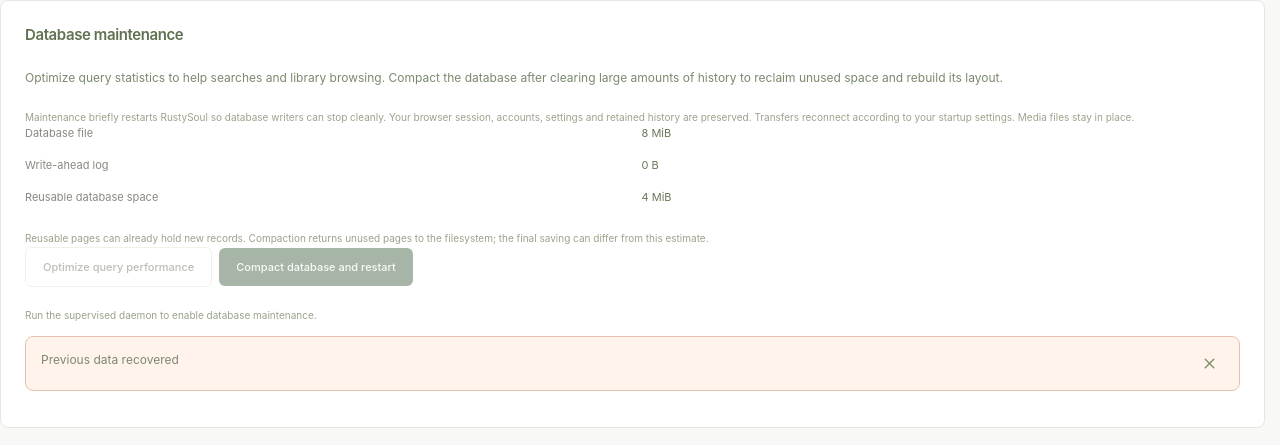
Test: disables unsupported or busy jobs and keeps failures dismissible
Expected: the text "Previous data recovered" is shown, [41, 352, 179, 367]
Expected: the button "Compact database and restart" is disabled, [219, 248, 413, 286]
Step 1. Click the button named "Dismiss error" → [1210, 363], box [1195, 349, 1224, 378]
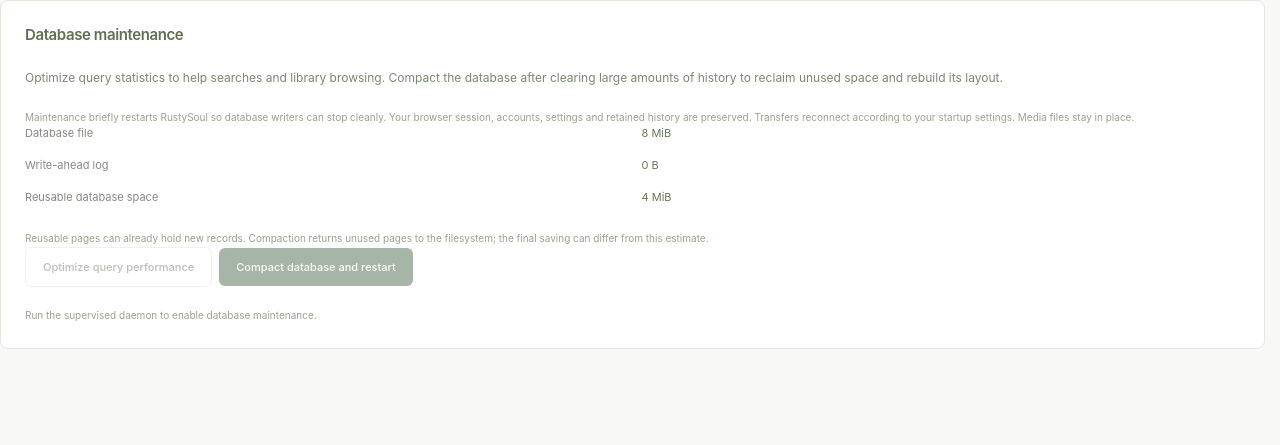
Now the message "Previous data recovered" is gone
